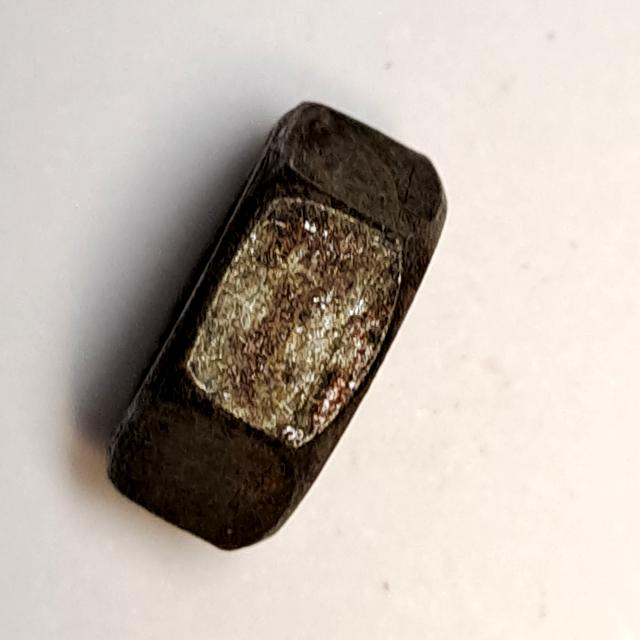Side_Rust: (94, 89, 458, 559)
